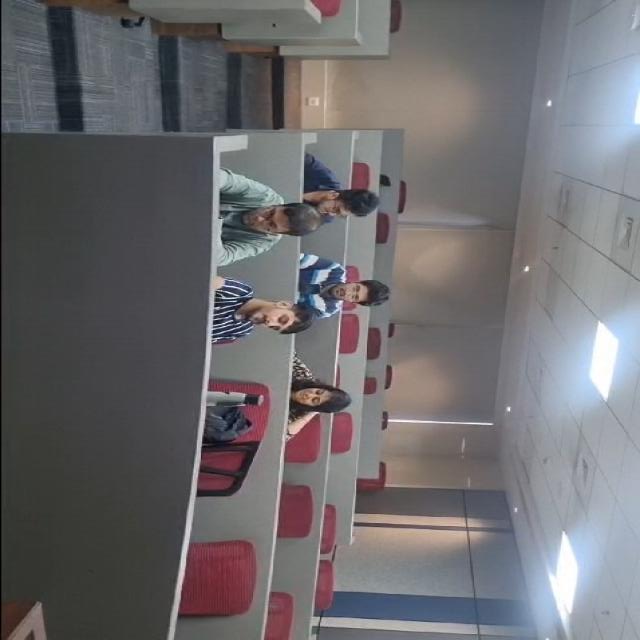cheating: (252, 246, 320, 336), (164, 246, 226, 338)
non-cheating: (181, 334, 255, 426), (285, 329, 343, 433), (364, 283, 444, 358)
